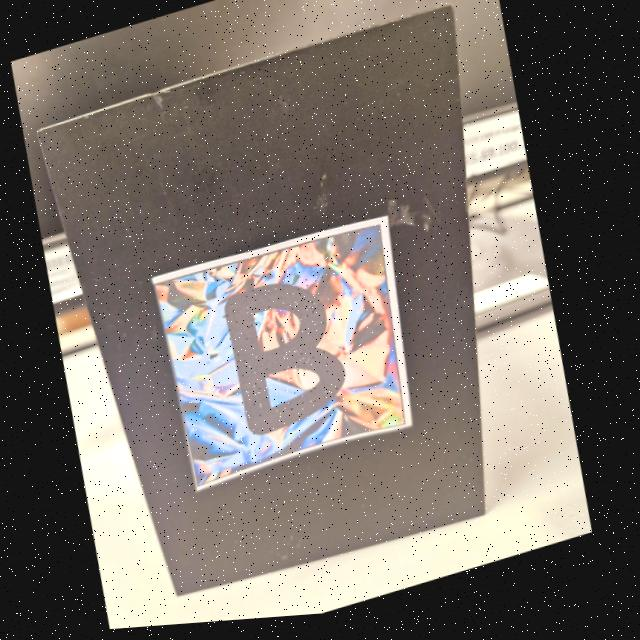B: (229, 289, 350, 439)
